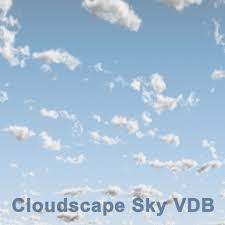sky: (2, 1, 222, 194)
